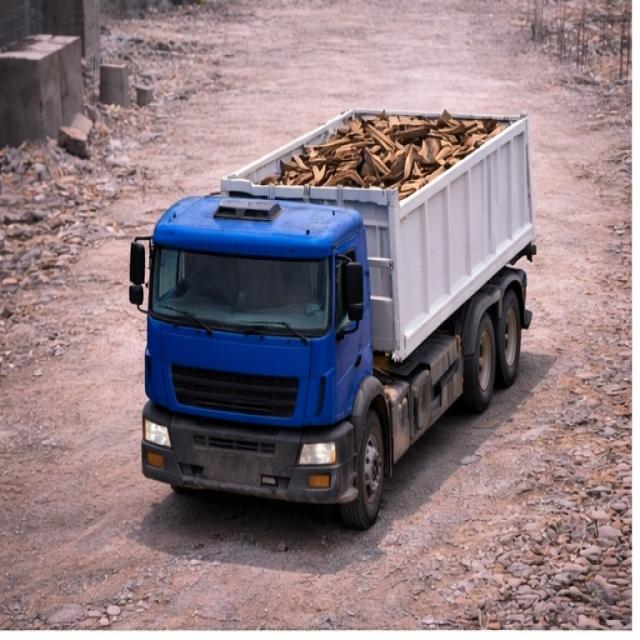Box: (216, 107, 530, 197)
Truck: (124, 104, 538, 502)
